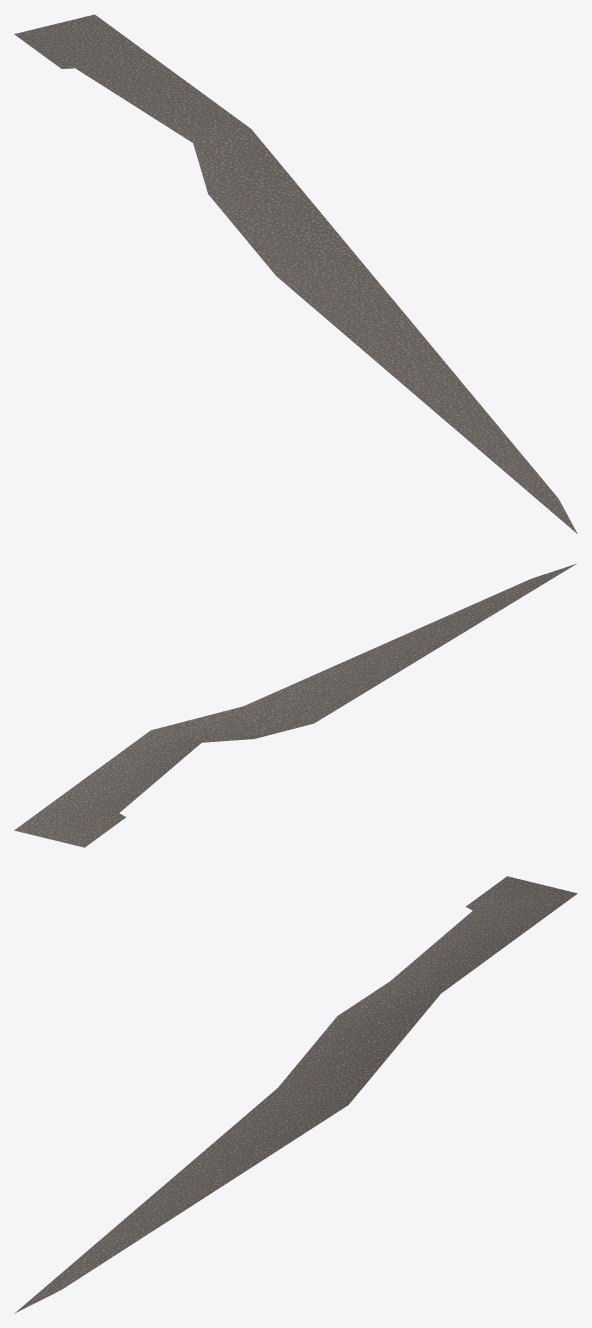
File: kd_stage_135c43_4_143_bounded_piece_1.glb
3 renders of one model, top to bottom at view 1: azimuth 30°, elevation 25°; view 2: azimuth 150°, elevation 25°; view 3: azimuth 330°, elevation 25°, orthographic. The views are drawn at different scales.
Visible parts, largest first — view 1: kd_stage_135c43_4_143_bounded_piece_1; view 2: kd_stage_135c43_4_143_bounded_piece_1; view 3: kd_stage_135c43_4_143_bounded_piece_1.
Boxes of the visible parts, x1,y1,x2,y2 form: kd_stage_135c43_4_143_bounded_piece_1: [14, 14, 577, 533]; kd_stage_135c43_4_143_bounded_piece_1: [14, 563, 576, 847]; kd_stage_135c43_4_143_bounded_piece_1: [14, 876, 577, 1313].
Size of the model in its own units: 0.212 by 0.2193 by 2.56.
Materials: 1 (1 with a texture image).
